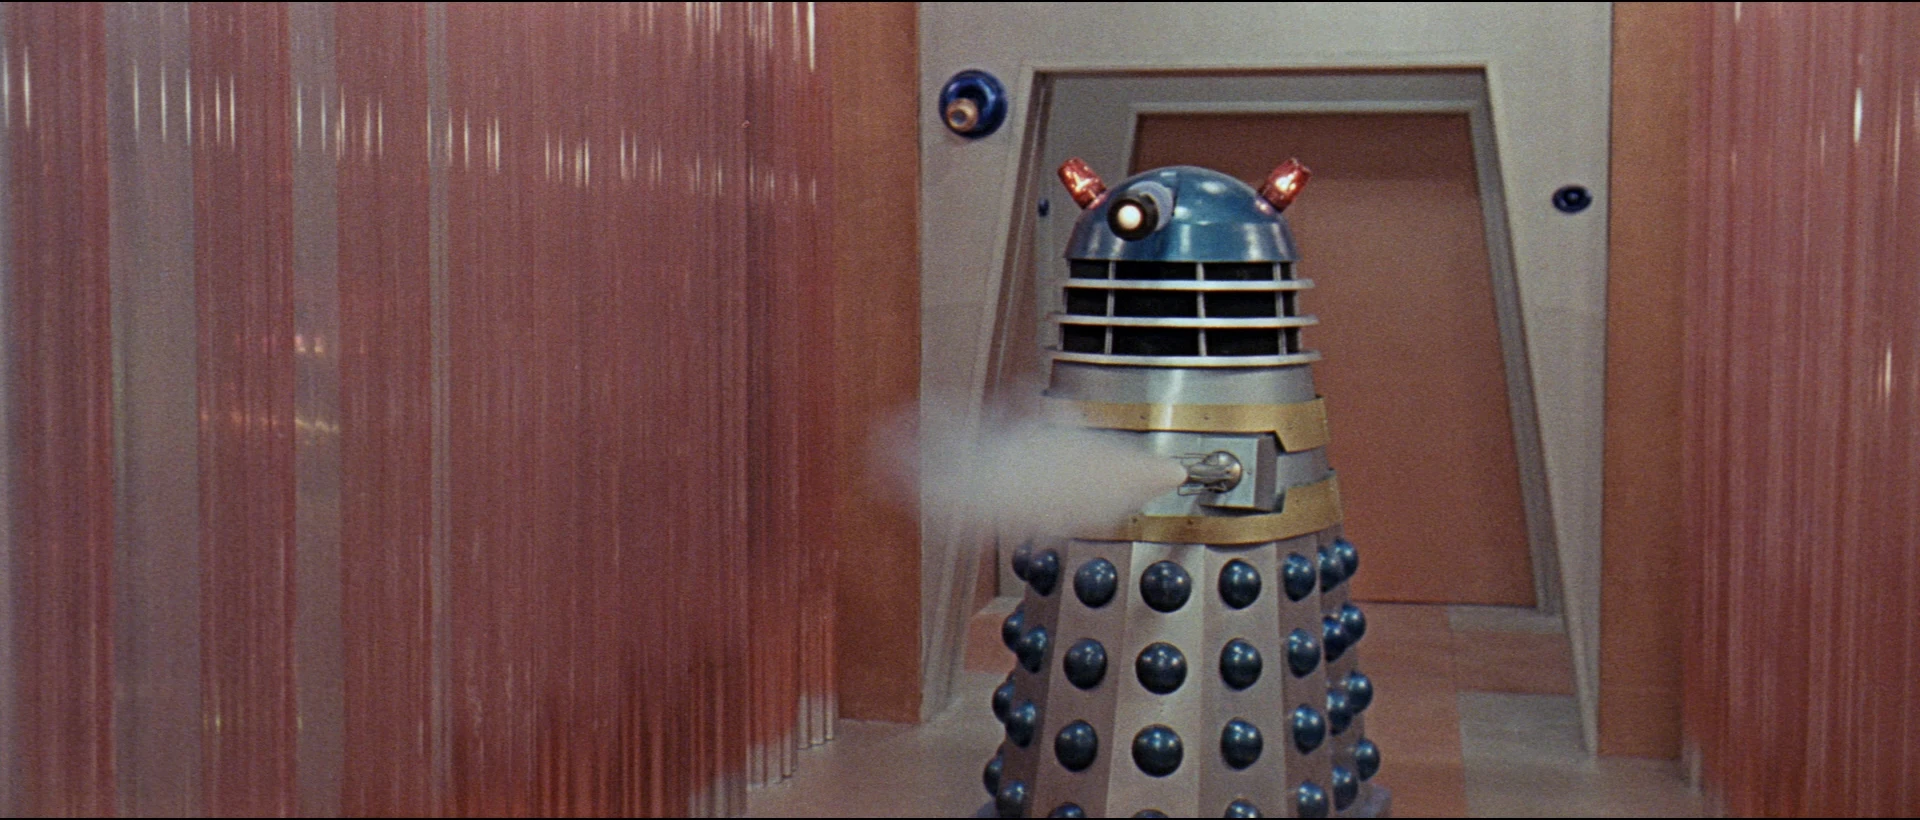Dalek: (973, 140, 1393, 820)
